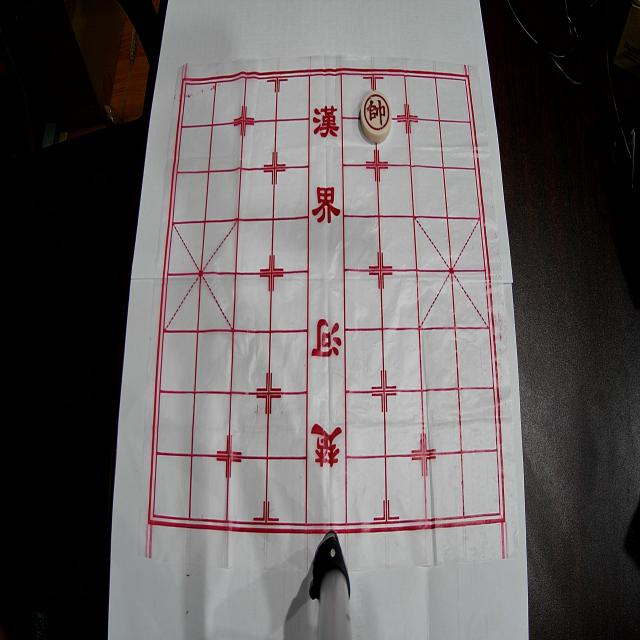red-general: (361, 91, 392, 143)
